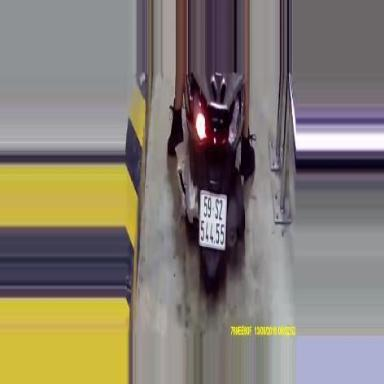License_Plate: (194, 187, 234, 251)
